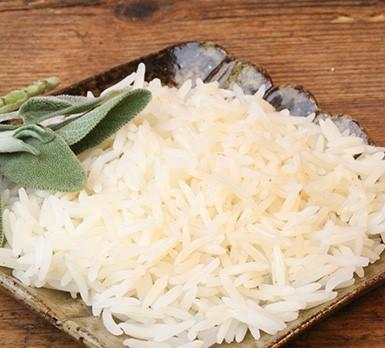WhiteRice: (0, 62, 385, 348)
